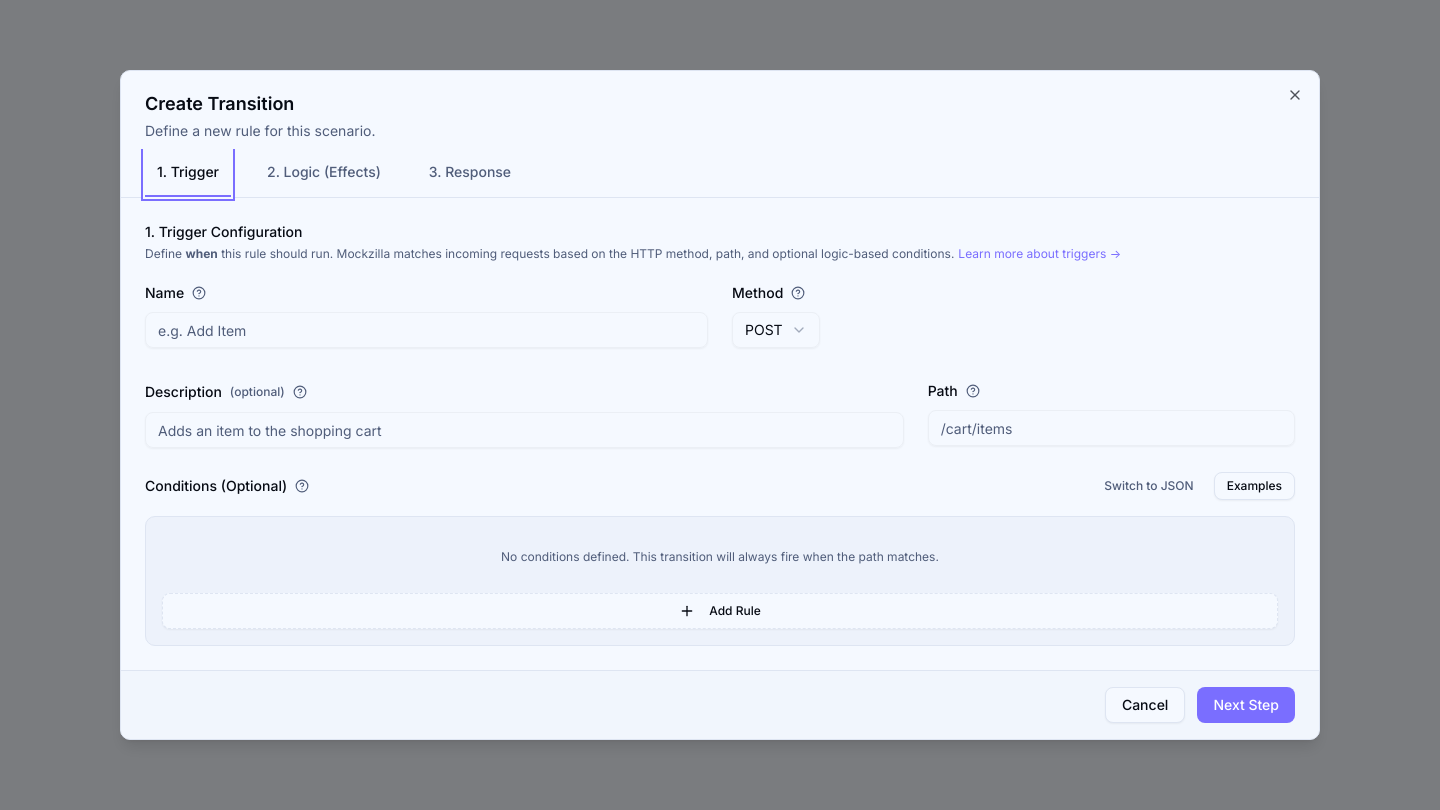
it: TransitionDialog › hides the value field when "Exists" operator is selected in condition builder
The image size is (1440, 810).
// Click "Add Rule"
Click the button "Add Rule" at (720, 611), box [162,593,1278,629]
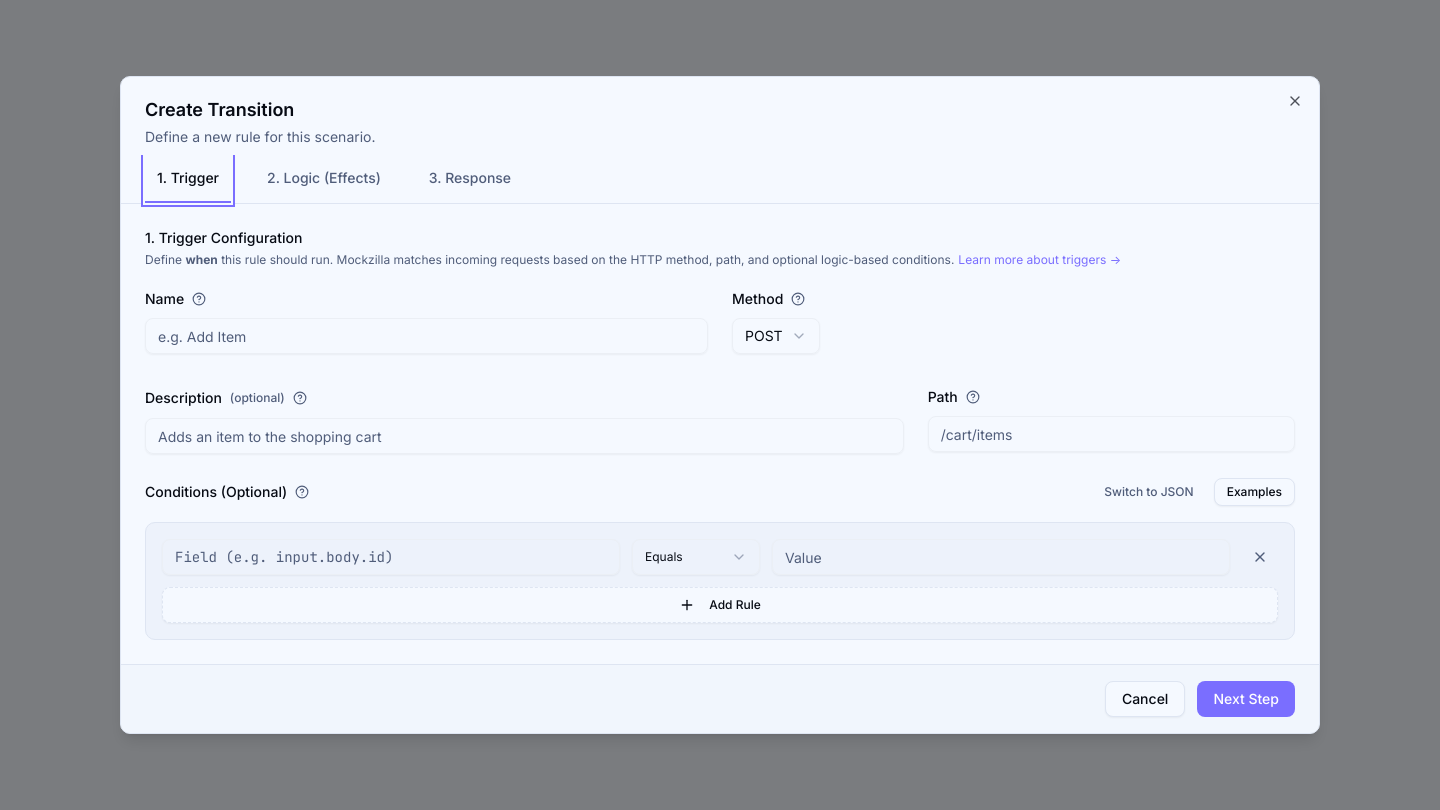
expect the field with placeholder "Value" is shown: met, box [772,539,1230,575]
